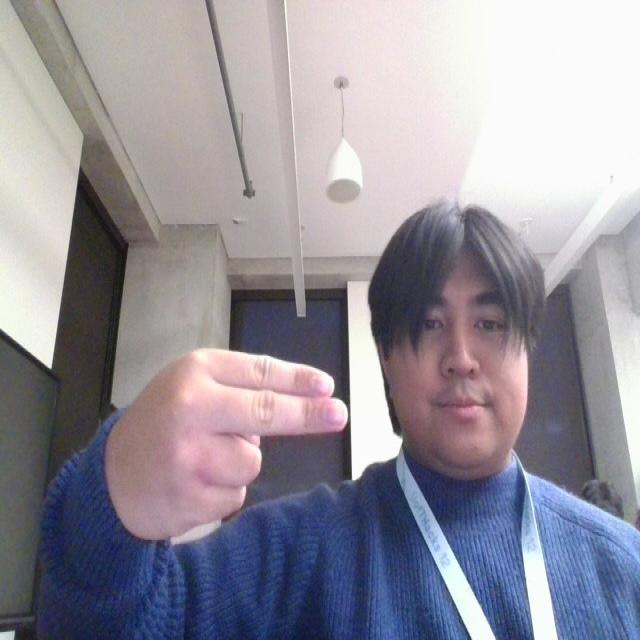Hsign: (102, 344, 351, 547)
